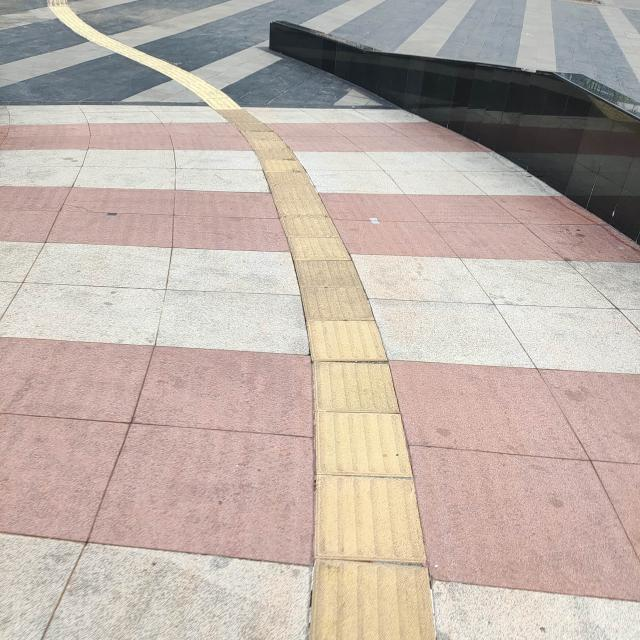lurus: (254, 157, 446, 640)
